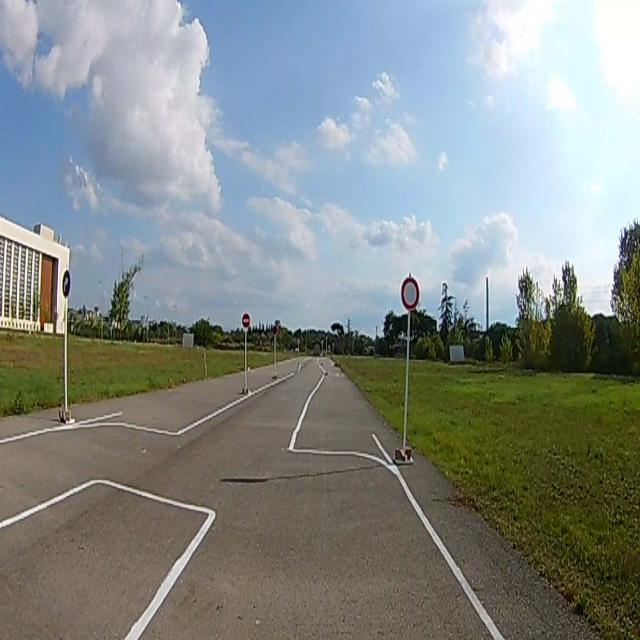girisyok: (242, 314, 250, 327)
sag: (62, 270, 71, 297)
